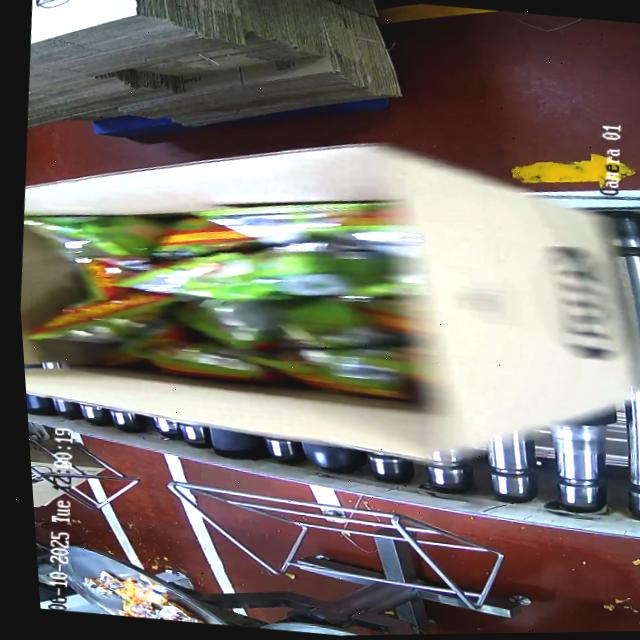YOGURT_HERB: (42, 180, 438, 407)
